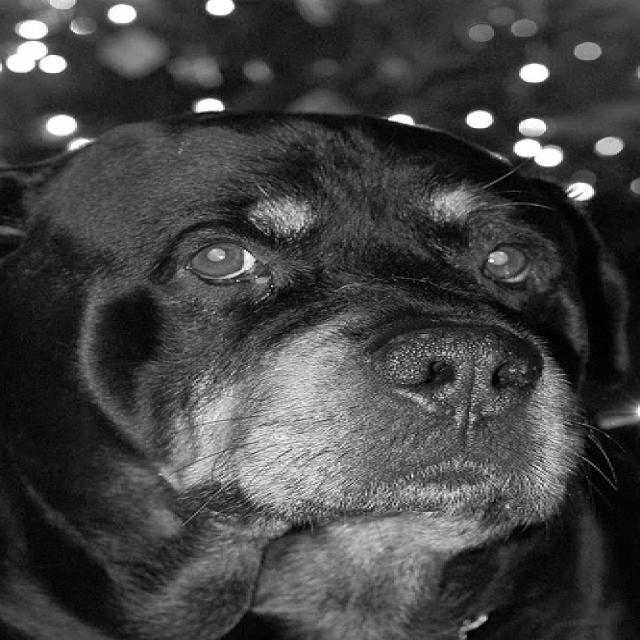dog: (2, 109, 638, 639)
